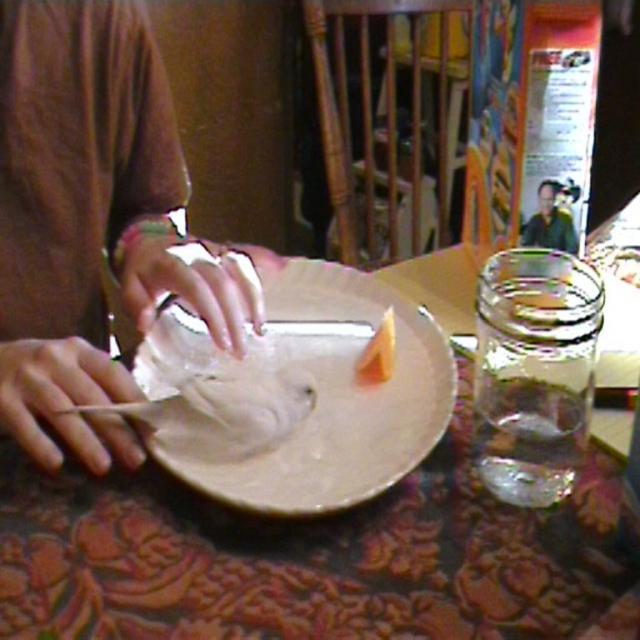non-organic waste: (118, 245, 461, 523)
